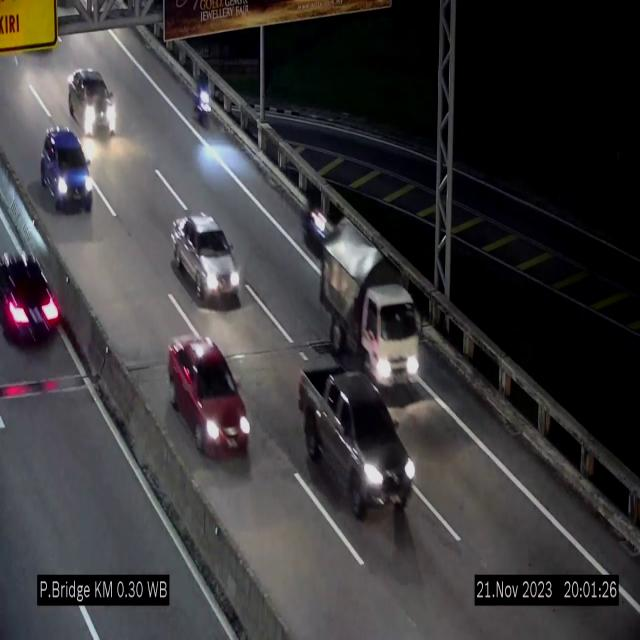Car: (297, 364, 415, 526), (168, 336, 250, 458), (0, 232, 63, 352), (170, 213, 242, 304), (40, 127, 93, 212), (65, 62, 117, 138)
Motorcycle: (300, 186, 326, 258), (193, 67, 215, 136)
Truck: (320, 221, 420, 390)
